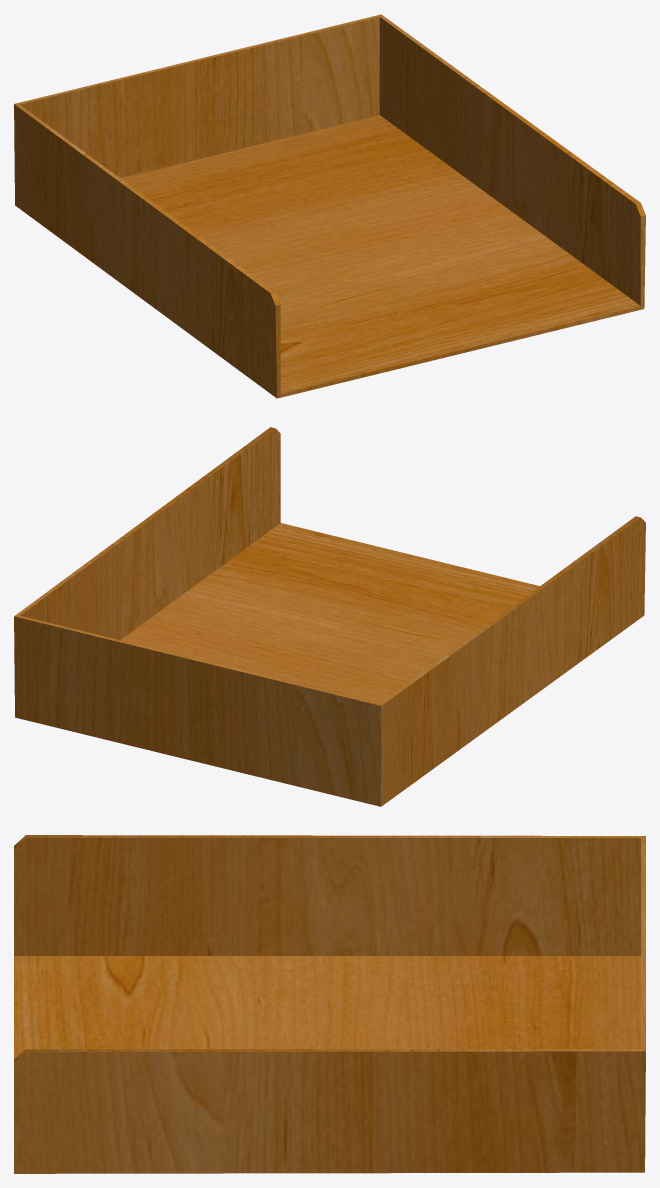
3 views of the same model, one above another, from view 1: azimuth 30°, elevation 25°; view 2: azimuth 150°, elevation 25°; view 3: azimuth 270°, elevation 25° (orthographic). The views are drawn at different scales.
Visible parts, largest first — view 1: Plane001; view 2: Plane001; view 3: Plane001.
Part boxes in pixels (x1,y1,x2,y2): Plane001: [14, 14, 645, 398]; Plane001: [14, 427, 645, 806]; Plane001: [14, 835, 645, 1173].
Bounding box in the file's own units: 747 × 197 × 919.
Materials: 1 (1 with a texture image).
